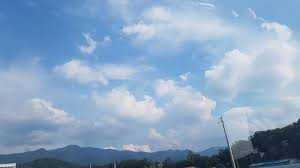sky: (2, 2, 295, 144)
